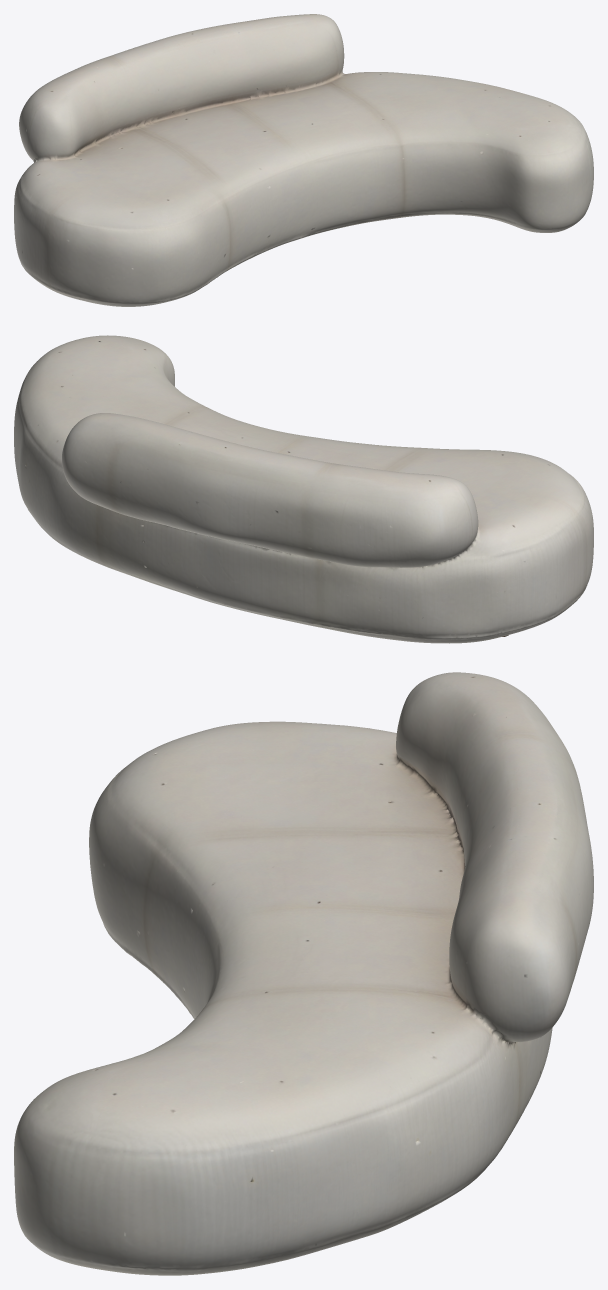
The model's file is siteglb.glb.
3 views of the same model, one above another, from view 1: azimuth 30°, elevation 25°; view 2: azimuth 150°, elevation 25°; view 3: azimuth 270°, elevation 25° (orthographic). The views are drawn at different scales.
Size of the model in its own units: 2 by 0.584 by 1.15.
Materials: 1 (1 with a texture image).
